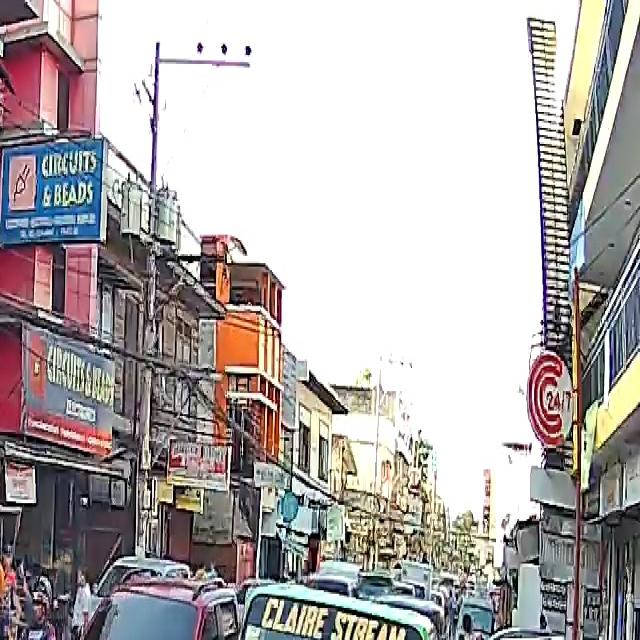car: (13, 574, 224, 640), (470, 618, 640, 640)
